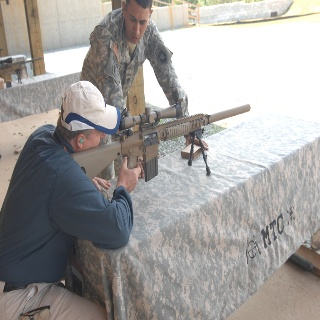rifle: (69, 100, 252, 181)
